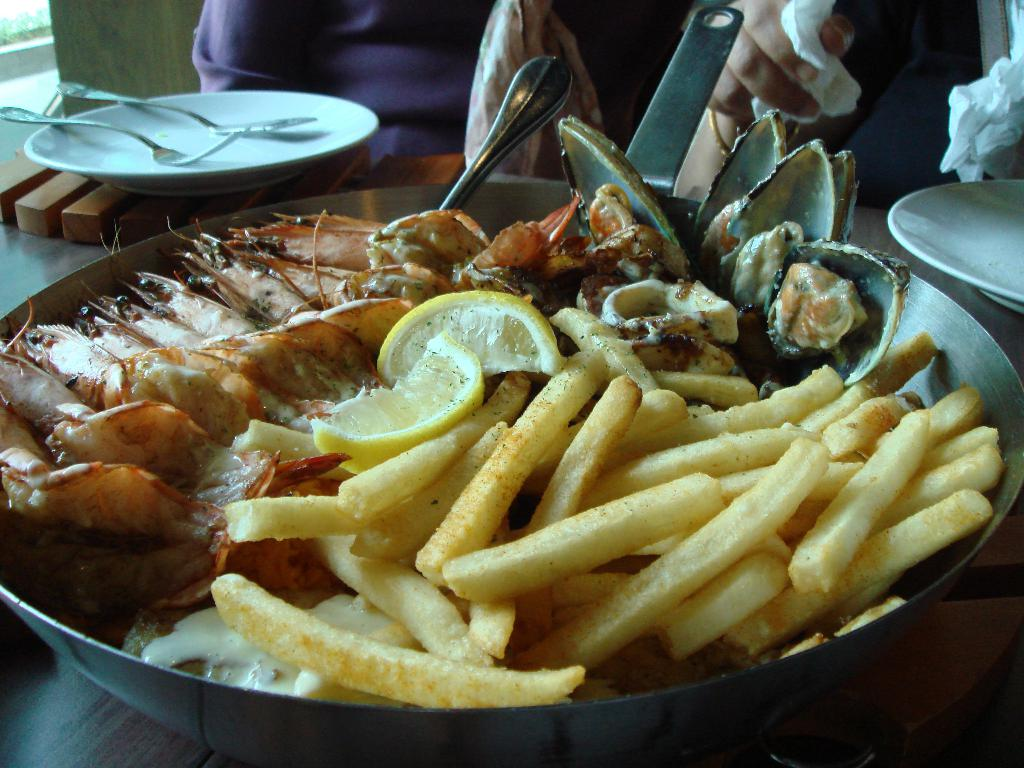French fries: (215, 324, 1017, 714)
